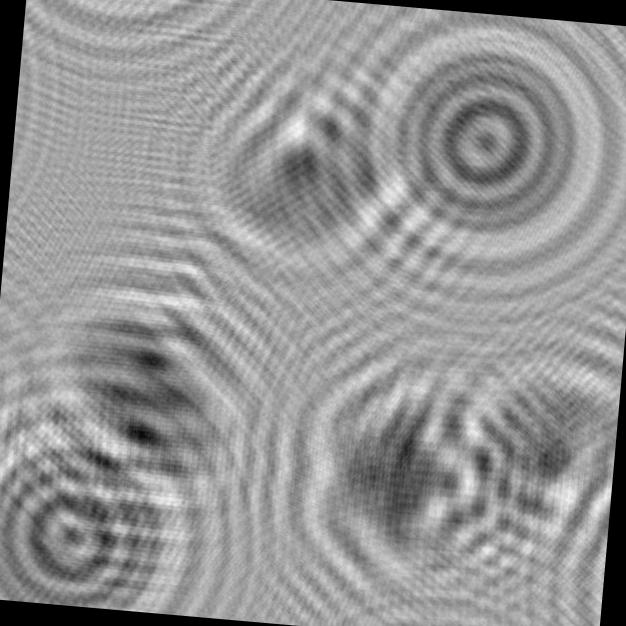K: (276, 322, 528, 622)
L: (162, 31, 450, 306), (439, 315, 626, 593)
N: (14, 240, 288, 514)
O: (368, 11, 624, 270), (0, 375, 209, 616)
